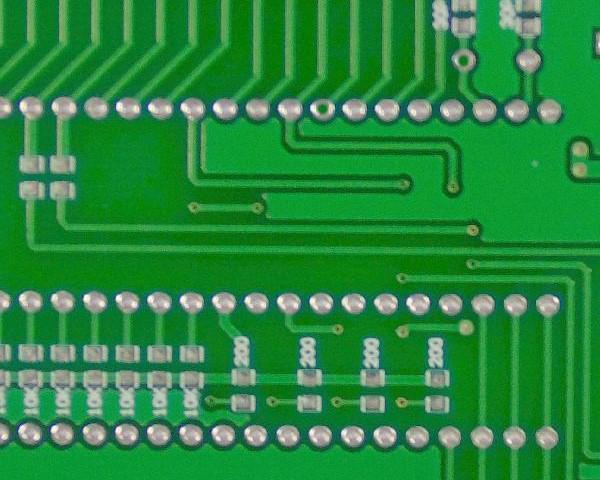missing hole: (303, 92, 342, 125), (449, 39, 478, 76)
